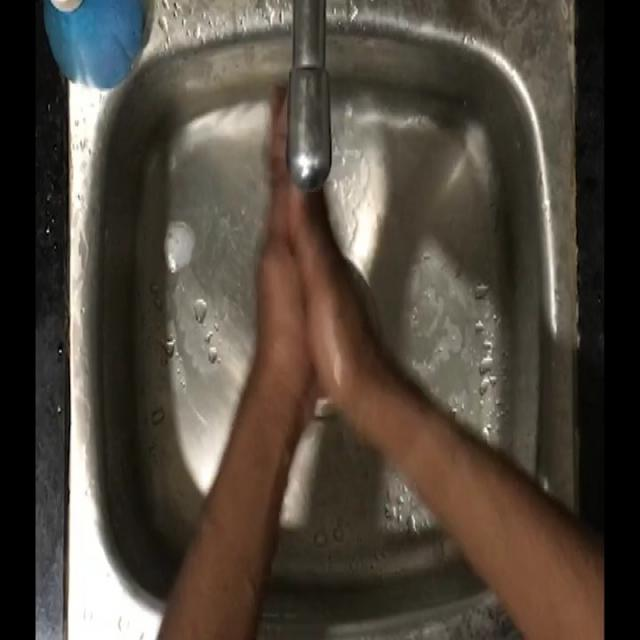step_1: (236, 68, 370, 400)
